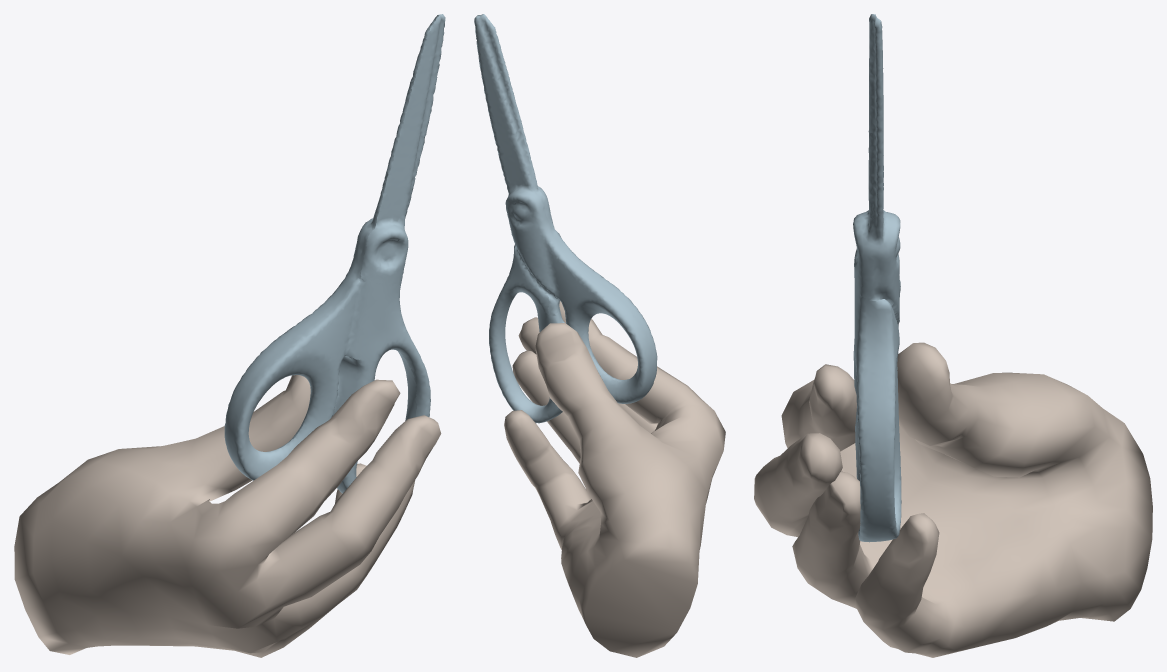
File: ours_scissors.glb
3 views of the same model, side by side, from view 1: azimuth 30°, elevation 25°; view 2: azimuth 150°, elevation 25°; view 3: azimuth 270°, elevation 25° (orthographic). The views are drawn at different scales.
Bounding box in the file's own units: 0.1565 × 0.2739 × 0.1293.
